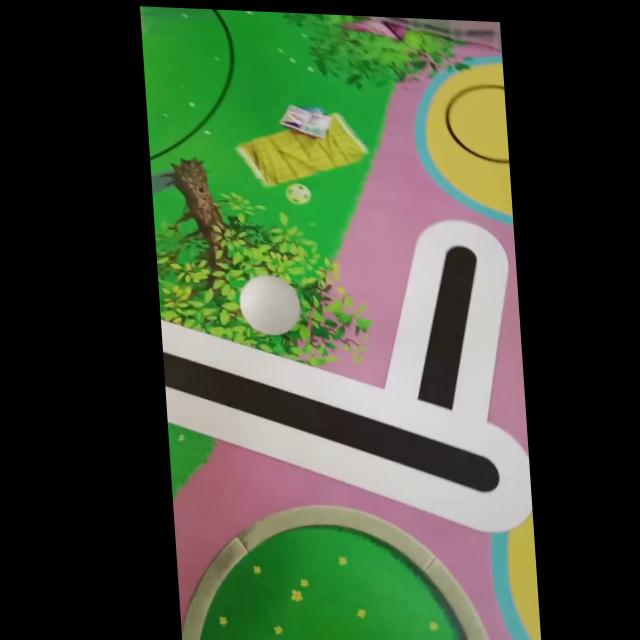white ball: (237, 273, 303, 337)
